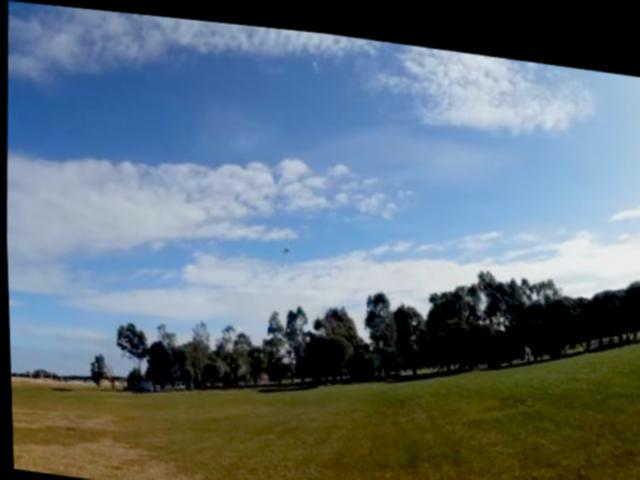uav: (269, 213, 302, 271)
